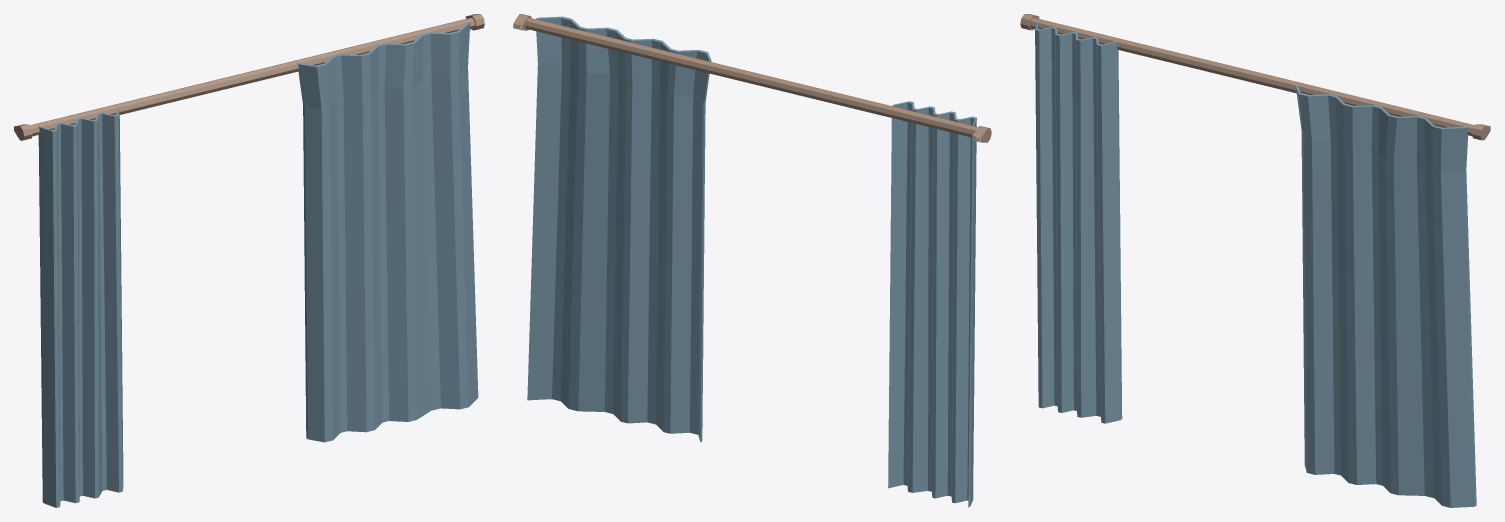
Rendered from Curtains_10.fbx.
3 views of the same model, side by side, from view 1: azimuth 30°, elevation 25°; view 2: azimuth 150°, elevation 25°; view 3: azimuth 330°, elevation 25° (orthographic).
Visible parts, largest first — view 1: Curtains_10; view 2: Curtains_10; view 3: Curtains_10.
Boxes of the visible parts, left/top/right/bottom form: Curtains_10: left=14, top=14, right=484, bottom=507; Curtains_10: left=513, top=14, right=991, bottom=507; Curtains_10: left=1020, top=14, right=1490, bottom=507.
Bounding box in the file's own units: 478 × 30.91 × 376.
